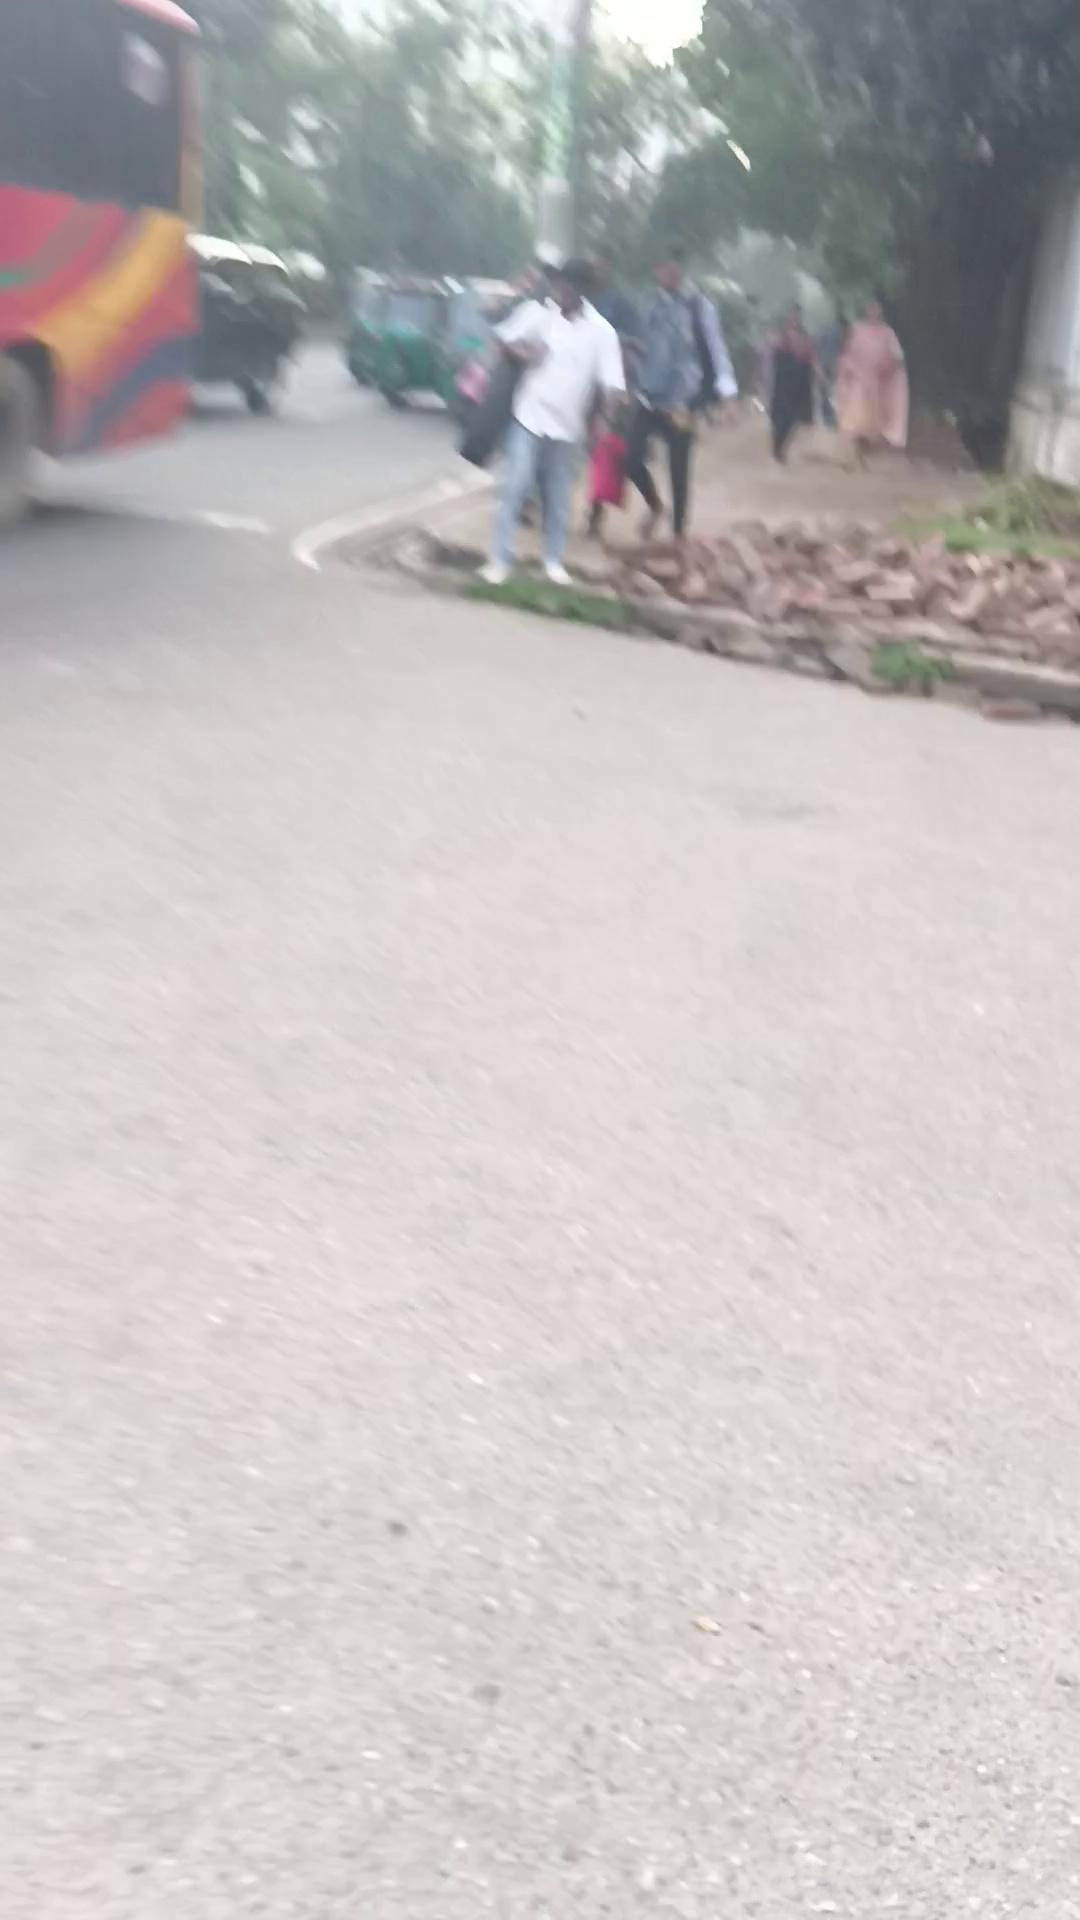Crosswalk: (294, 562, 1080, 713)
Muddy road: (473, 256, 626, 588), (622, 247, 740, 541), (829, 295, 910, 473), (761, 302, 831, 464)
Traffic-sign: (1, 1, 207, 524), (185, 231, 309, 417), (342, 268, 489, 413)
